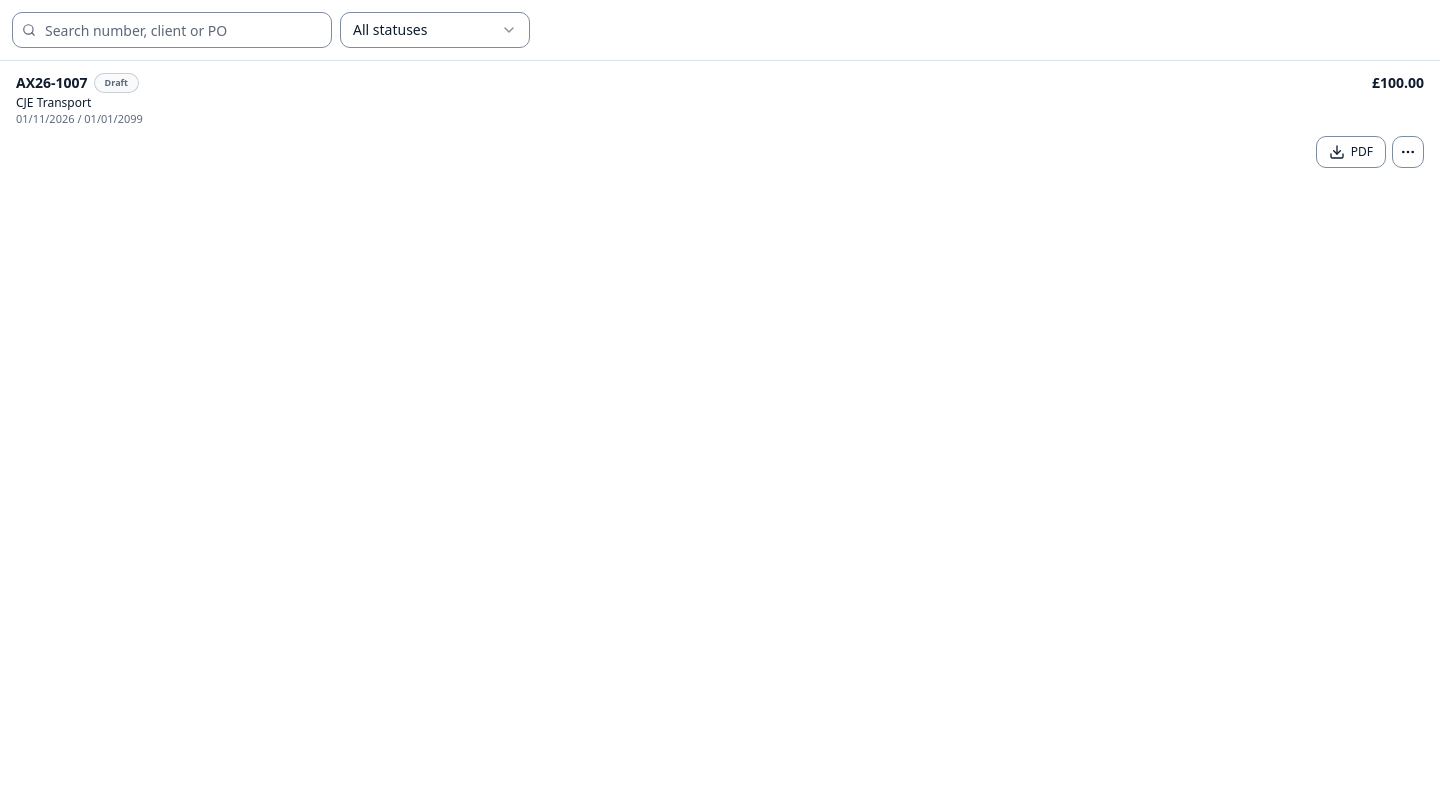
Test: invoice actions › cancels a draft only once a reason is given, with no credit note
Later steps or results of the test are not shown.
Press Enter in the button named "More actions for AX26-1007", box 1392,136 -> 1424,168
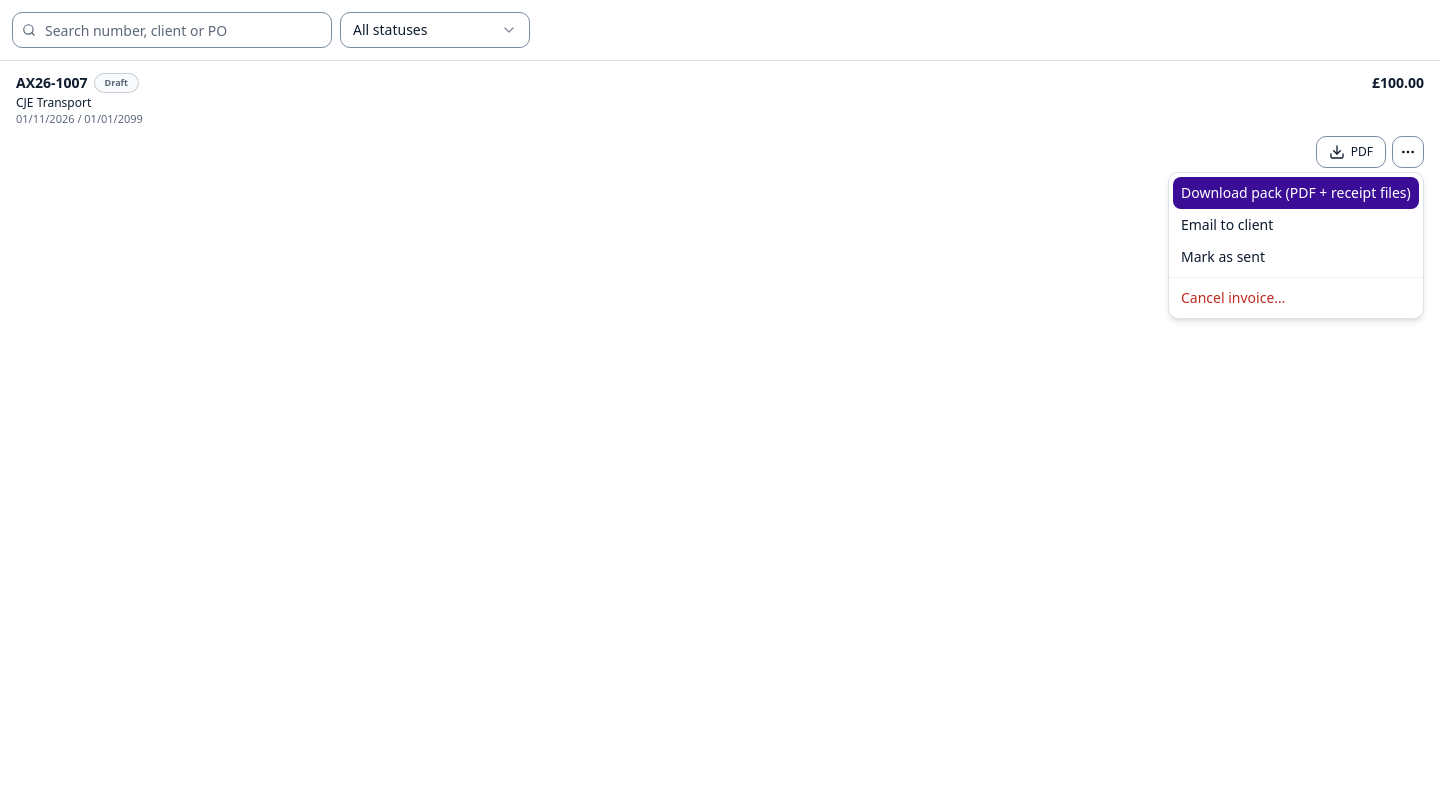
Click the menu item "Cancel invoice…". click: (1233, 298)
box: 1181,288 -> 1285,307
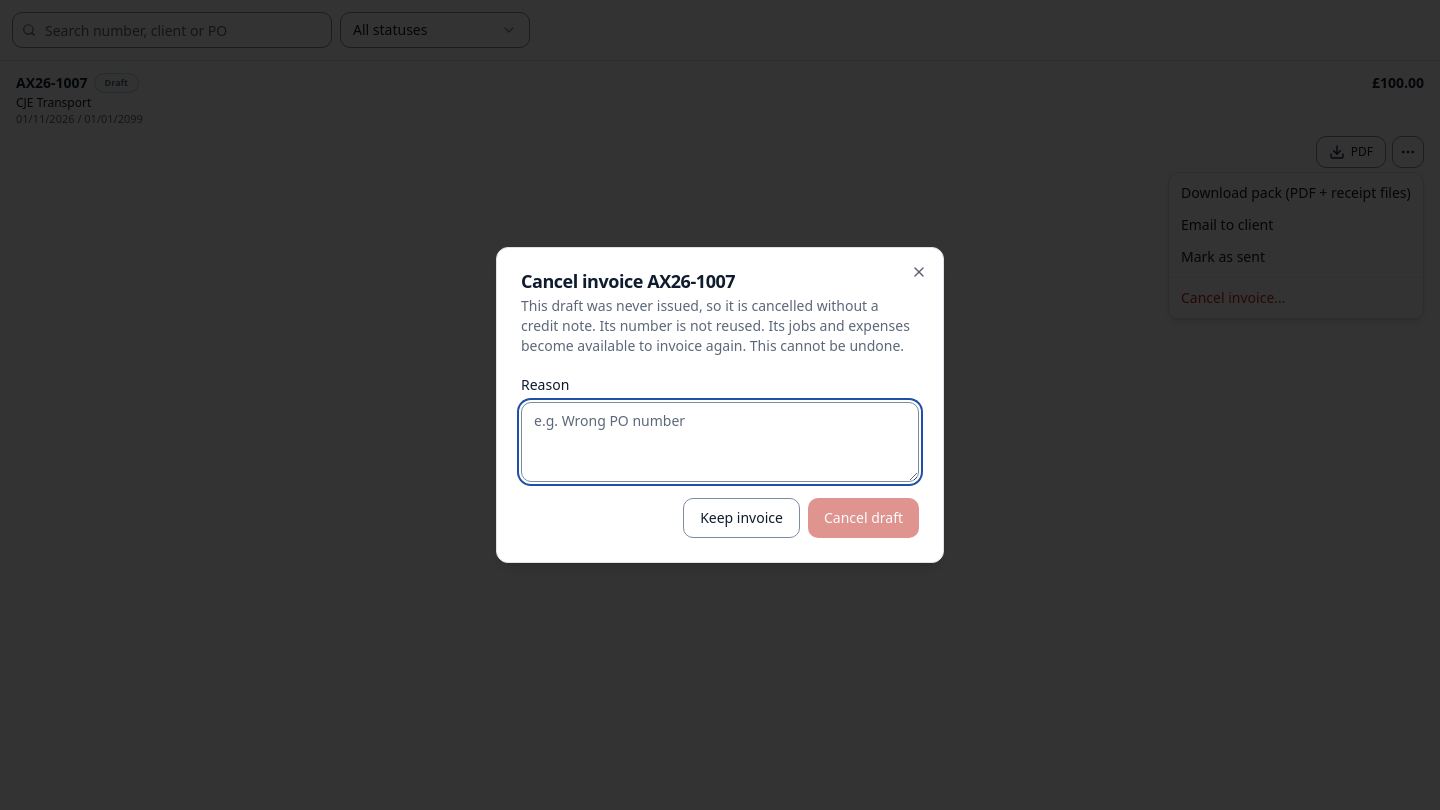
Expected: the text "never issued, so it is cancelled without a credit note" is shown, 521,296 -> 879,335
Expected: the button "Cancel draft" is disabled, 808,498 -> 919,538
